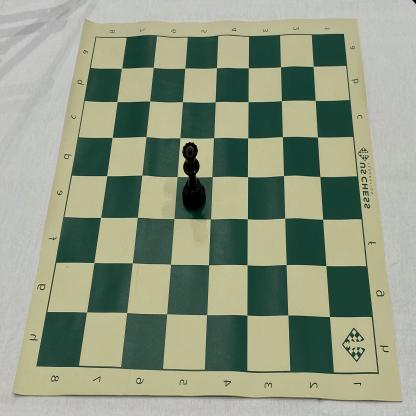black-queen: (182, 142, 206, 212)
